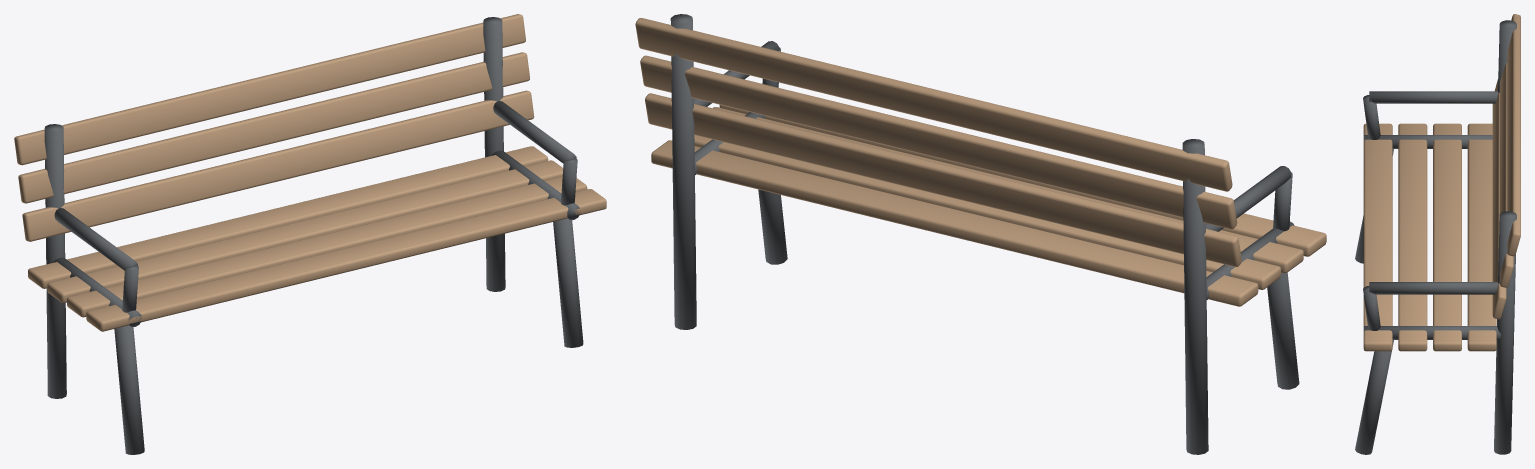
File: park_bench.glb
3 renders of one model, left to right at view 1: azimuth 30°, elevation 25°; view 2: azimuth 150°, elevation 25°; view 3: azimuth 270°, elevation 25°, orthographic. The views are drawn at different scales.
Visible parts, largest first — view 1: Cube.005, Cube.004, Cube.006, Cube, Cube.002, Cube.003, Cube.001, Cylinder.001, Cylinder.006, Cylinder, Cylinder.005, Cylinder.003 (+5 smaller); view 2: Cube.006, Cube.005, Cube.004, Cube.003, Cube.002, Cylinder.001, Cylinder.006, Cube, Cube.001, Cylinder, Cylinder.005, Cylinder.003 (+2 smaller); view 3: Cube.001, Cube.002, Cube, Cube.003, Cylinder.006, Cube.006, Cylinder.005, Cube.004, Cylinder.003, Cylinder.008, Cube.005, Cylinder.007 (+5 smaller).
Boxes of the visible parts, bbox=[...] form: Cube.005: bbox=[18, 52, 529, 203]; Cube.004: bbox=[22, 90, 534, 241]; Cube.006: bbox=[14, 14, 525, 165]; Cube: bbox=[86, 189, 606, 331]; Cube.002: bbox=[47, 160, 563, 302]; Cube.003: bbox=[28, 146, 548, 288]; Cube.001: bbox=[67, 176, 587, 317]; Cylinder.001: bbox=[44, 124, 66, 398]; Cylinder.006: bbox=[483, 17, 505, 291]; Cylinder: bbox=[114, 325, 144, 454]; Cylinder.005: bbox=[553, 218, 583, 347]; Cylinder.003: bbox=[54, 208, 137, 270]; Cube.006: bbox=[635, 18, 1232, 191]; Cube.005: bbox=[640, 55, 1237, 229]; Cube.004: bbox=[645, 93, 1241, 266]; Cube.003: bbox=[651, 140, 1258, 306]; Cube.002: bbox=[694, 135, 1280, 289]; Cylinder.001: bbox=[1182, 139, 1208, 454]; Cylinder.006: bbox=[670, 14, 696, 329]; Cube: bbox=[719, 104, 1326, 256]; Cube.001: bbox=[713, 107, 1303, 273]; Cylinder: bbox=[1267, 272, 1299, 389]; Cylinder.005: bbox=[758, 189, 787, 264]; Cylinder.003: bbox=[1205, 166, 1291, 231]; Cube.001: bbox=[1398, 123, 1427, 351]; Cube.002: bbox=[1433, 123, 1461, 351]; Cube: bbox=[1363, 123, 1392, 351]; Cube.003: bbox=[1467, 123, 1496, 351]; Cylinder.006: bbox=[1494, 211, 1516, 454]; Cube.006: bbox=[1507, 14, 1520, 256]; Cylinder.005: bbox=[1355, 339, 1393, 454]; Cube.004: bbox=[1492, 79, 1506, 319]; Cylinder.003: bbox=[1369, 91, 1498, 103]; Cylinder.008: bbox=[1369, 282, 1498, 294]; Cube.005: bbox=[1500, 63, 1513, 287]; Cylinder.007: bbox=[1363, 326, 1500, 339].
Size of the model in its own units: 1.8 by 0.9059 by 0.5732.
